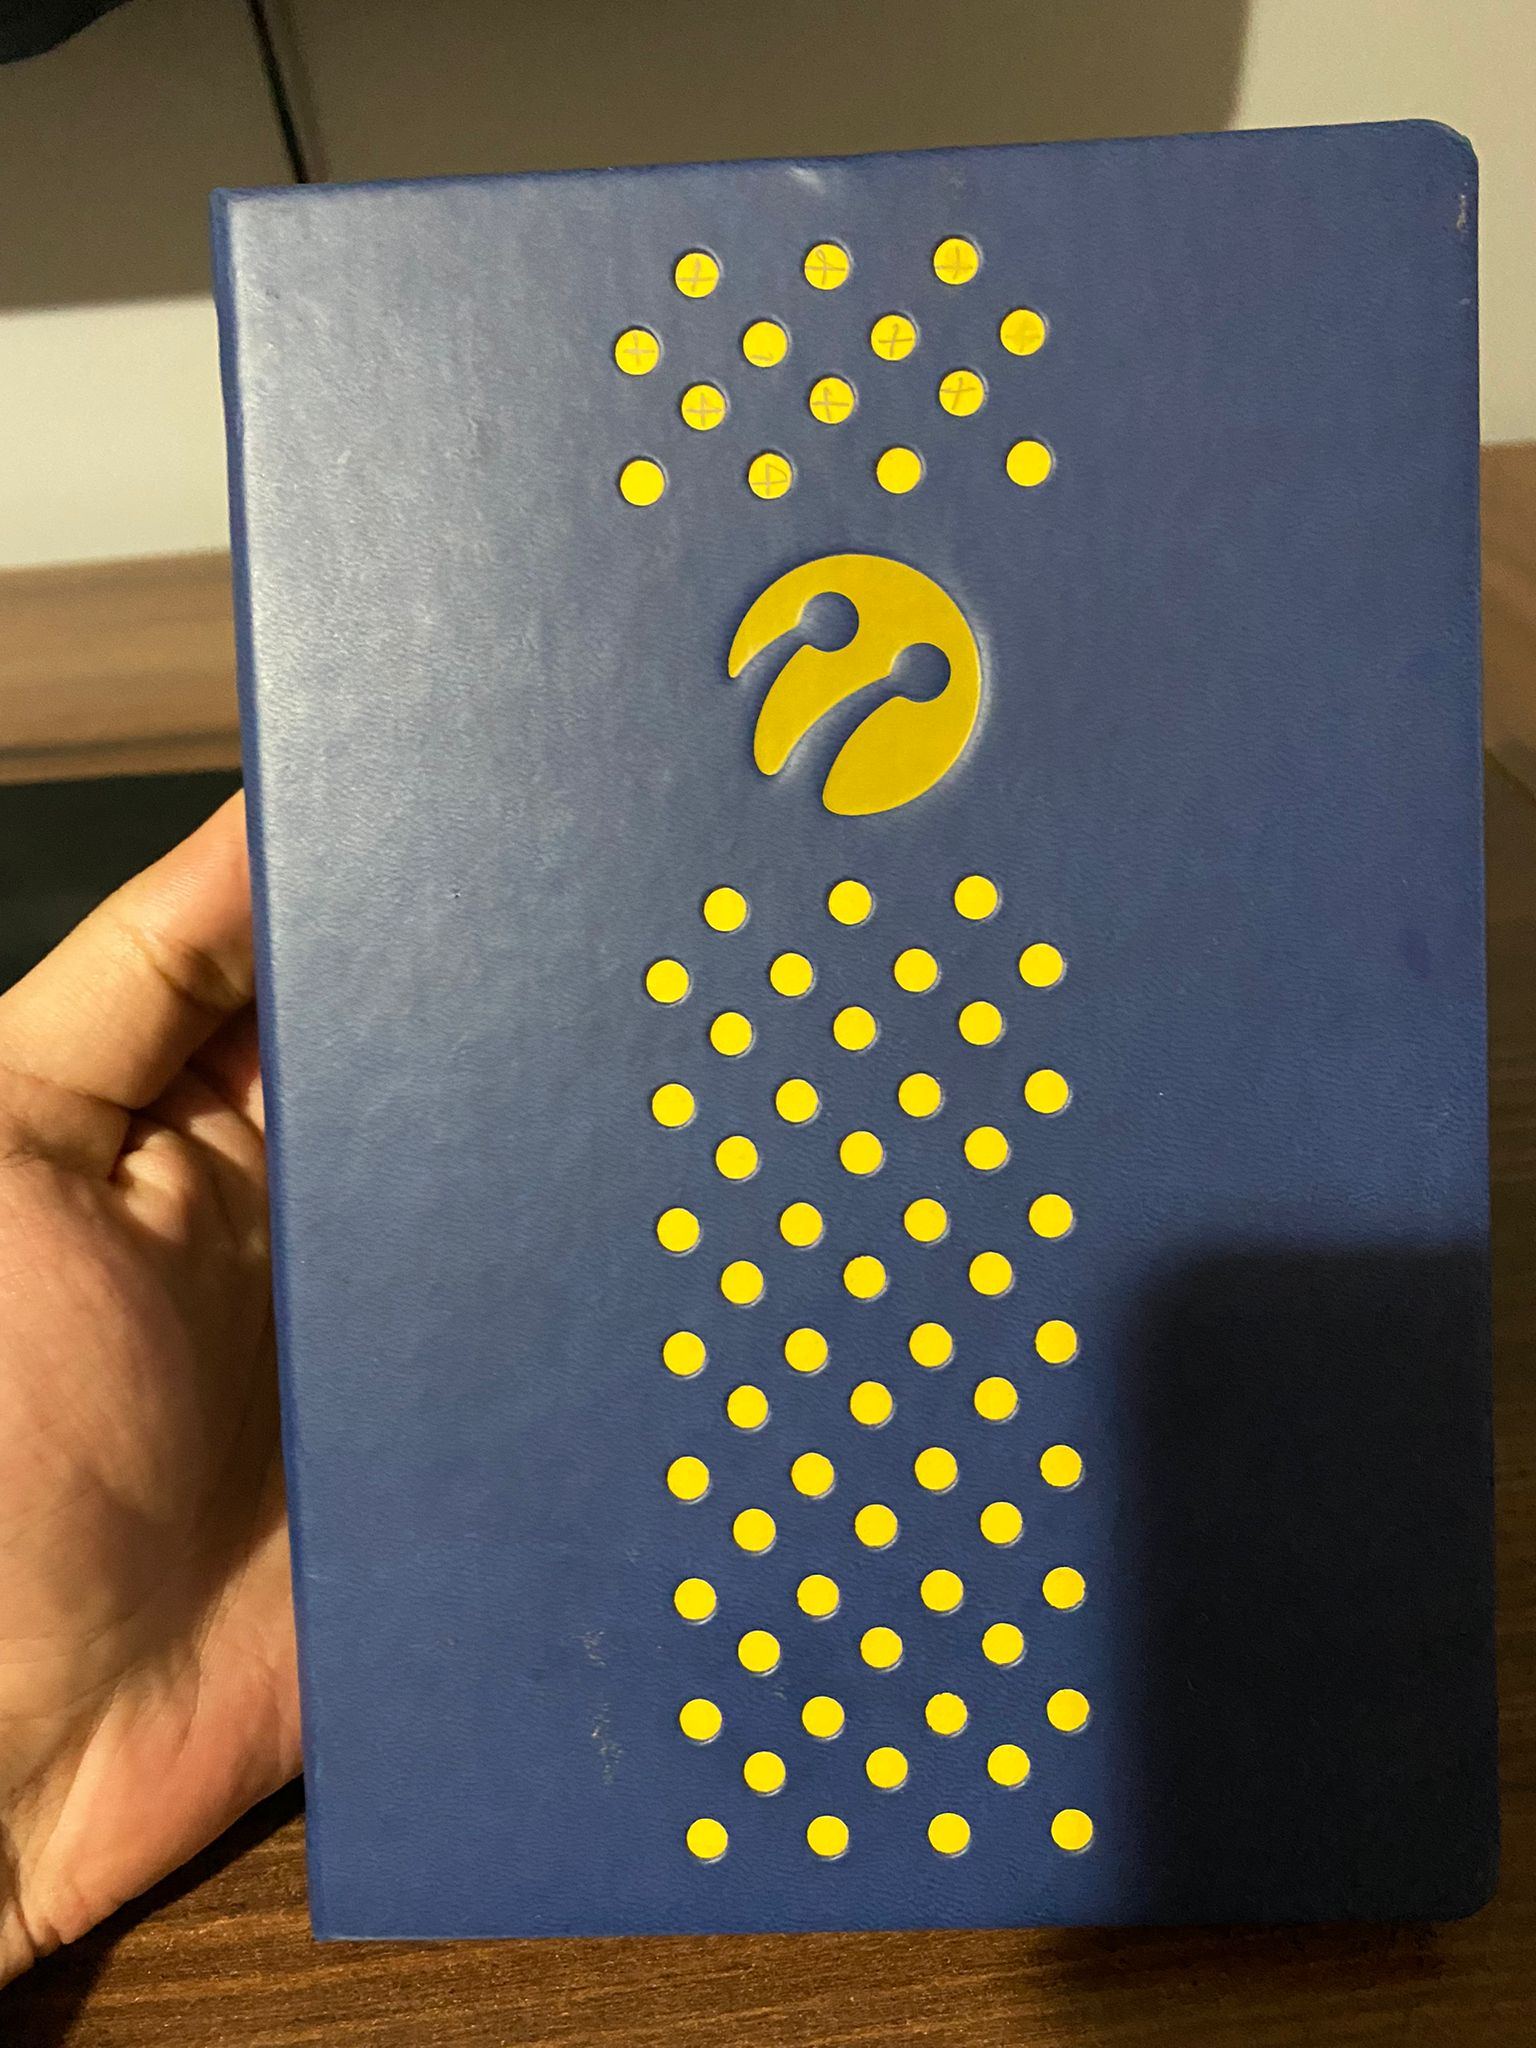turkcell: (720, 539, 995, 822)
